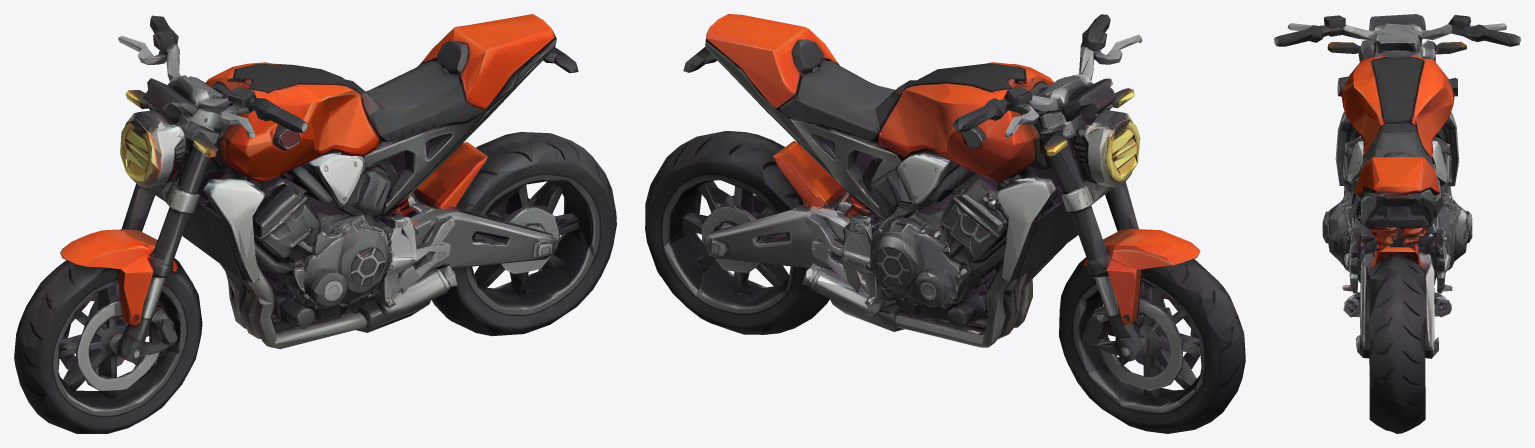
The model's file is bike.glb.
The picture shows the model from 3 angles, left to right: view 1: azimuth 30°, elevation 25°; view 2: azimuth 150°, elevation 25°; view 3: azimuth 270°, elevation 25°; orthographic projection. The views are drawn at different scales.
Size of the model in its own units: 1.9 by 1.05 by 0.8326.
Materials: 1 (1 with a texture image).
